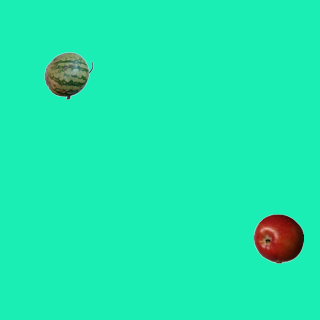Apple Braeburn: (253, 213, 303, 263)
Watermelon: (43, 50, 93, 100)
